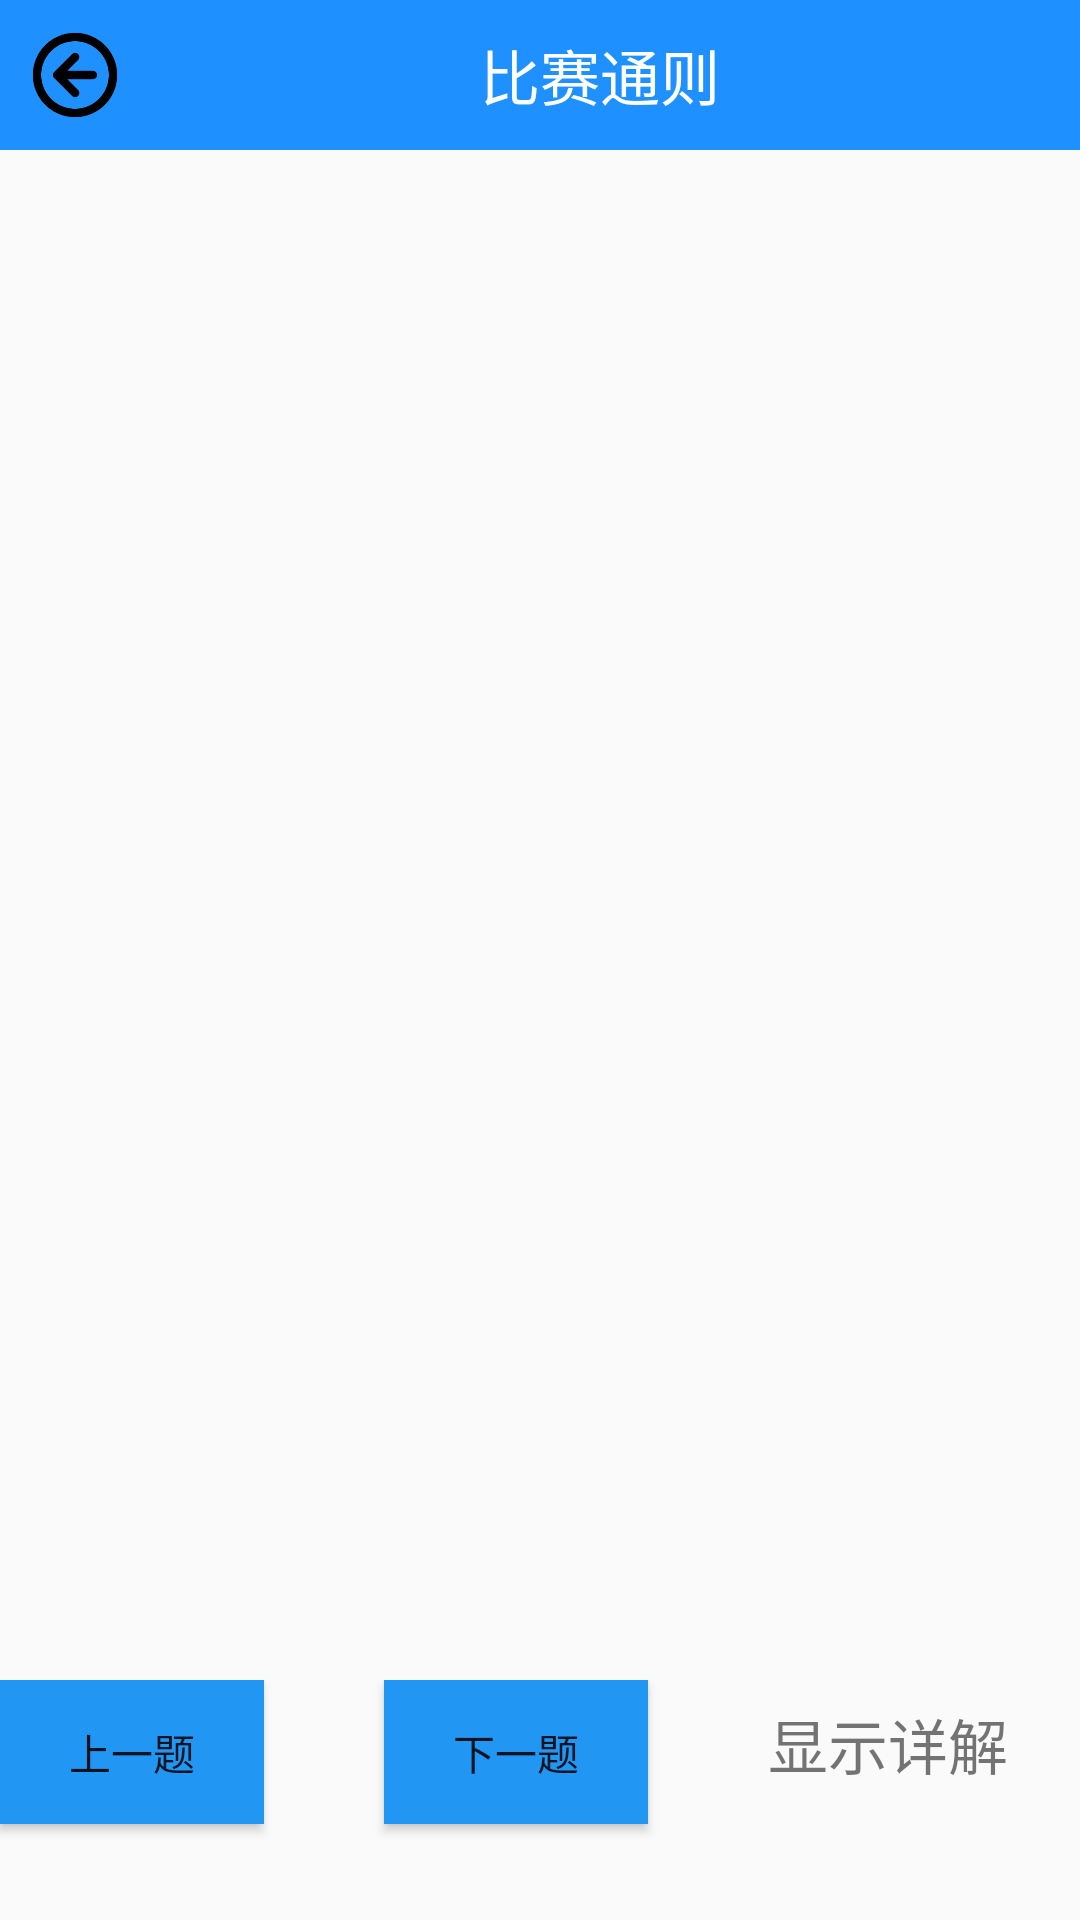

Icon bounding boxes for this 1080w x 1920h phone screenshot, format (x1, y1, x2, y2):
fanhui: (33, 33, 117, 117)
